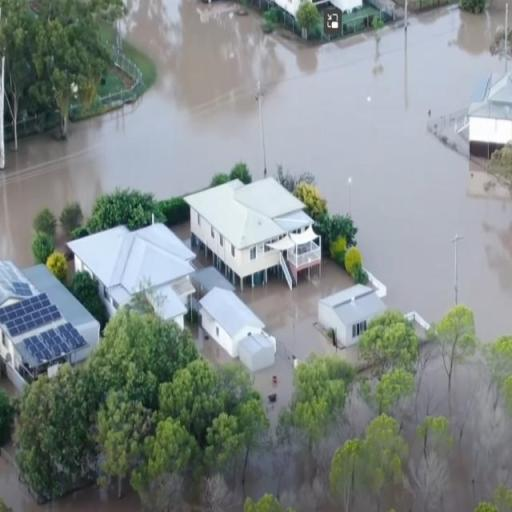flood: (0, 0, 512, 340), (243, 262, 353, 357), (0, 457, 141, 512)
house: (186, 174, 320, 284), (69, 216, 200, 318), (0, 248, 101, 373), (198, 286, 278, 368), (254, 0, 379, 46), (316, 282, 386, 350), (470, 76, 510, 159)
